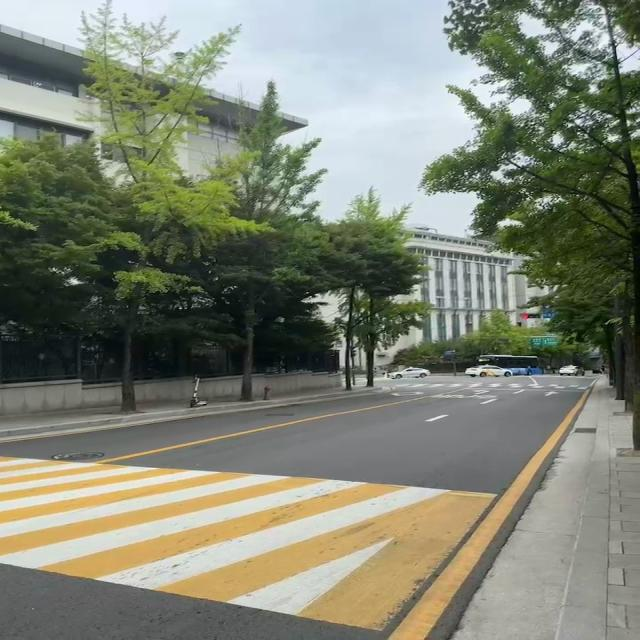building: (0, 23, 316, 196), (297, 225, 549, 374)
car: (385, 366, 430, 378), (558, 364, 580, 375)
